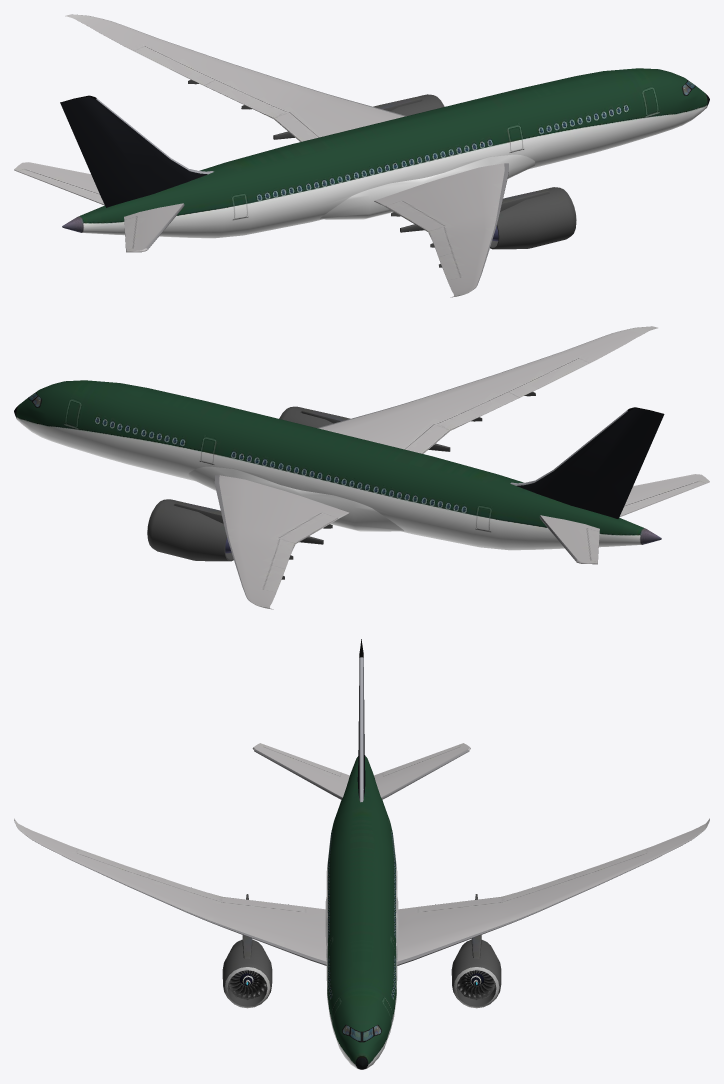
Rendered from amvlab-b787.glb.
The picture shows the model from 3 angles, top to bottom: view 1: azimuth 30°, elevation 25°; view 2: azimuth 150°, elevation 25°; view 3: azimuth 270°, elevation 25°; orthographic projection. The views are drawn at different scales.
Parts seen in each view (by area): view 1: airplane_787.001; view 2: airplane_787.001; view 3: airplane_787.001.
Part boxes in pixels (x1,y1,x2,y2): airplane_787.001: (14, 14, 709, 297); airplane_787.001: (14, 326, 709, 609); airplane_787.001: (14, 639, 709, 1069).
Size of the model in its own units: 56.59 by 16.32 by 58.01.
1 material, 1 textured.
